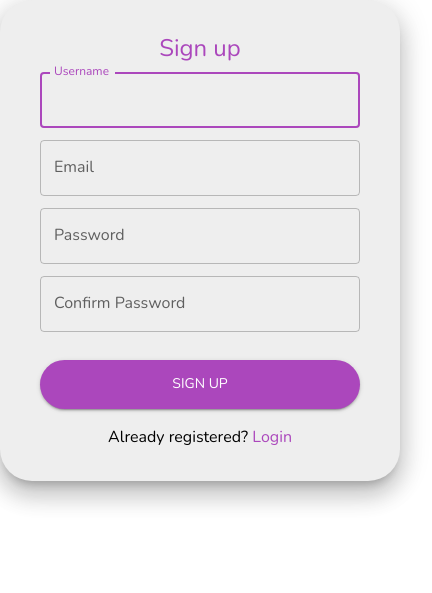
Test: Signup form › Show validation errors after submitting an empty form › should render "Username should be of minimum 2 characters" after the user types one word on username input
Click the button "sign up" at [200, 385], box [40,360,360,409]
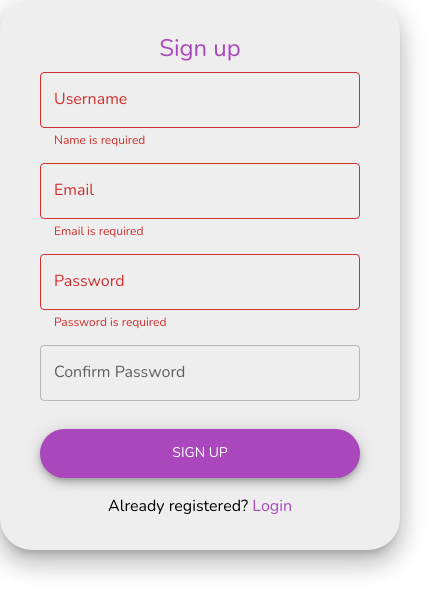
Type "c" into the field labelled "Username" at [200, 100], box [40,72,360,128]
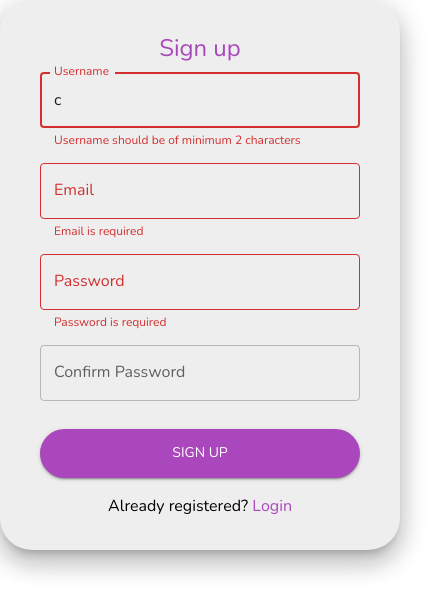
Expected: the text "Username should be of minimum 2 characters" is shown, [54,132,301,148]
